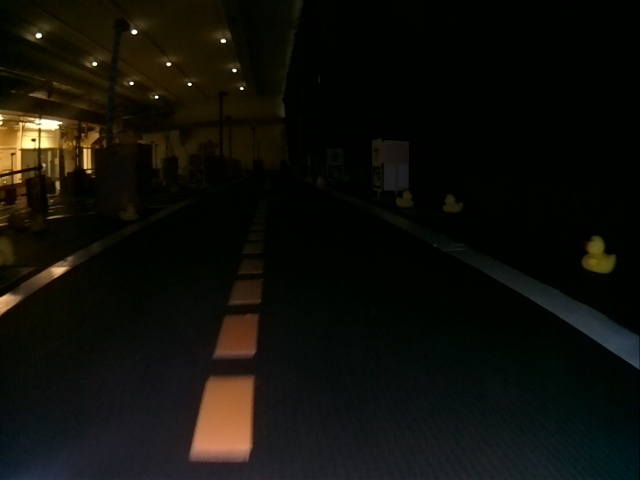Duckie: (583, 235, 616, 271), (444, 194, 463, 213), (396, 191, 414, 208), (120, 204, 138, 221)
Intersection sign: (374, 144, 384, 163)
QR code: (373, 166, 382, 191)
